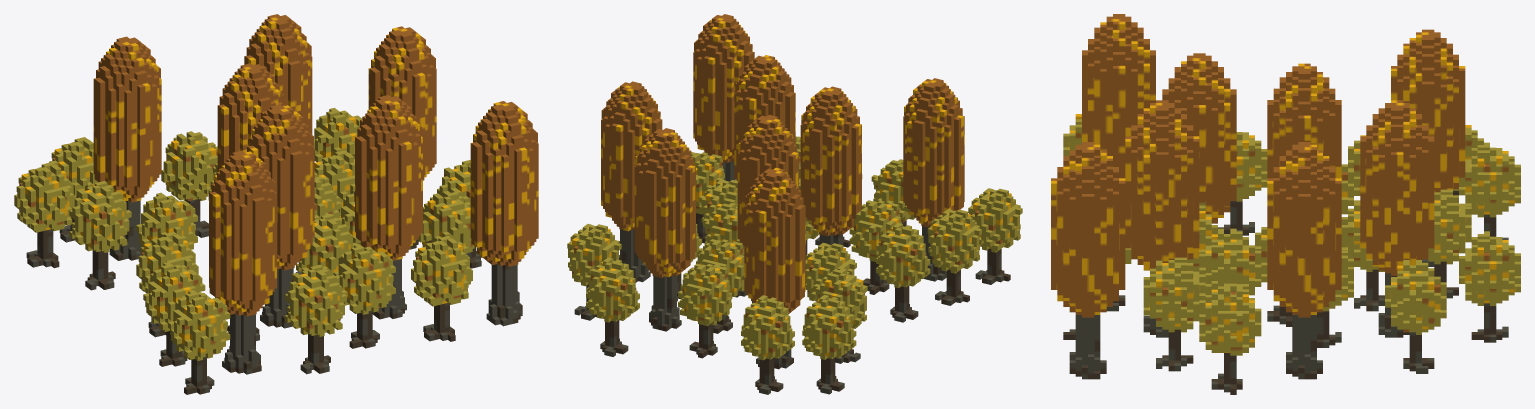
The model's file is trees_15_overtile.glb.
3 views of the same model, side by side, from view 1: azimuth 30°, elevation 25°; view 2: azimuth 150°, elevation 25°; view 3: azimuth 270°, elevation 25° (orthographic). The views are drawn at different scales.
Parts seen in each view (by area): view 1: trees_15_overtile; view 2: trees_15_overtile; view 3: trees_15_overtile.
Part boxes in pixels (<box>): trees_15_overtile: <box>14,14,538,394</box>; trees_15_overtile: <box>567,14,1022,394</box>; trees_15_overtile: <box>1051,14,1520,394</box>.
Bounding box in the file's own units: 7.6 × 4 × 7.6.
1 material, 1 textured.
